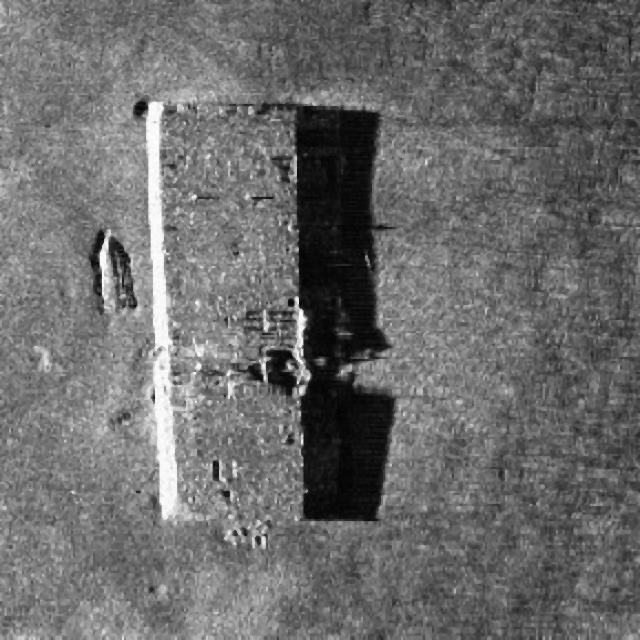Ship: (84, 85, 329, 559)
